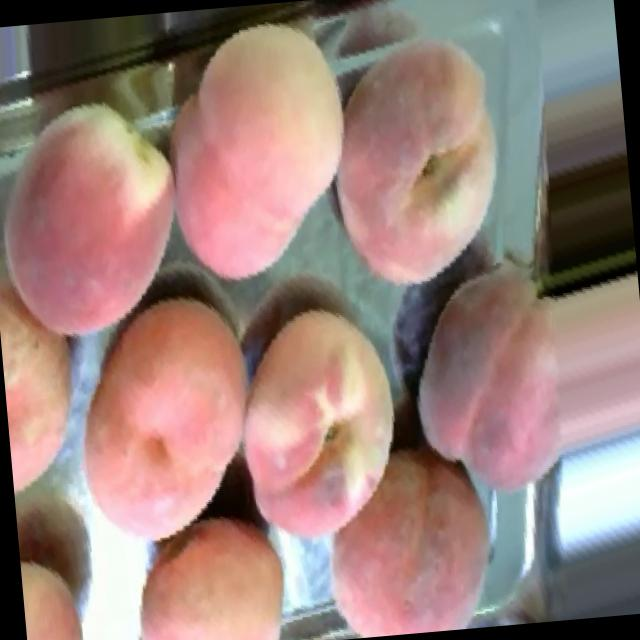Fruit: (130, 0, 381, 312), (382, 229, 640, 524), (293, 10, 539, 312), (45, 269, 266, 565), (0, 73, 198, 367), (232, 285, 428, 563), (300, 422, 517, 640), (105, 494, 307, 640), (0, 243, 86, 524), (18, 529, 102, 640)
